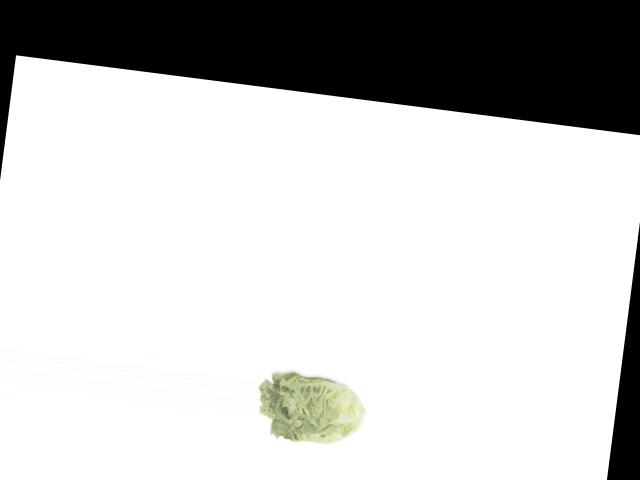lettuce: (254, 364, 370, 456)
